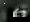person: (20, 6, 29, 17), (15, 10, 21, 17)
